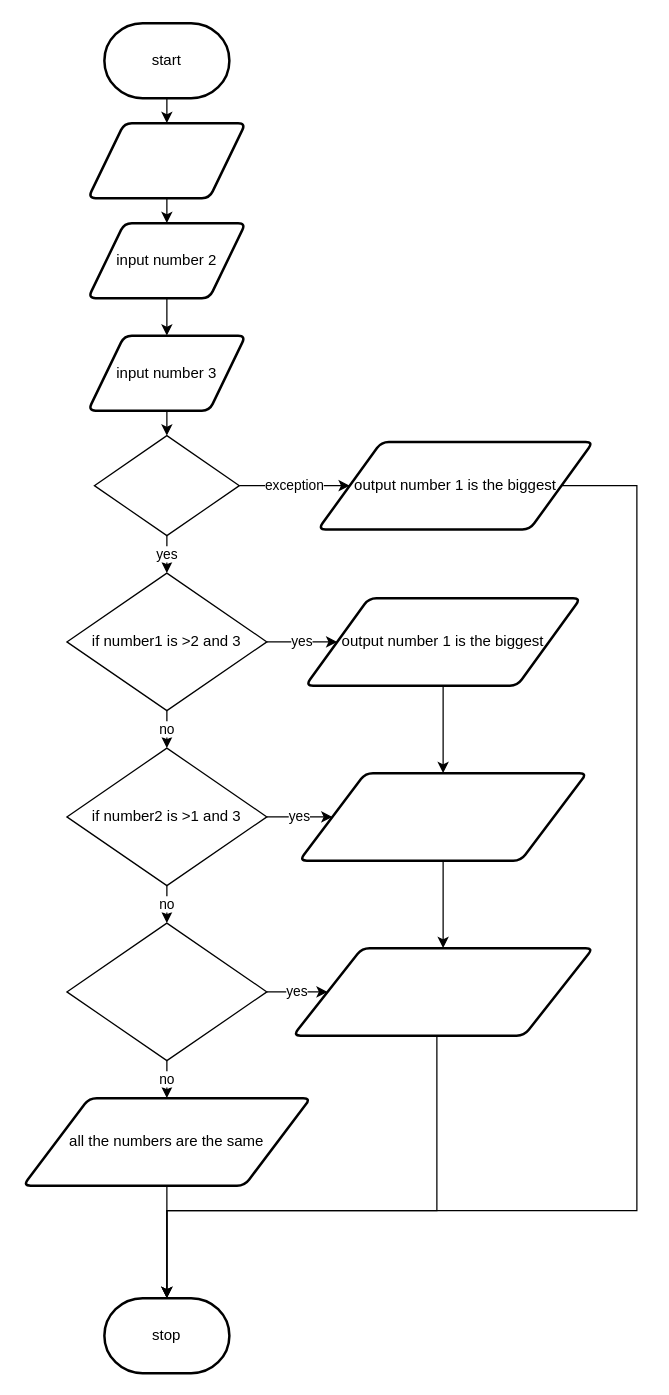
The diagram is 669 pixels wide and 1395 high, and some of its shapes have lost their labels. Each missing label, with the centre of its shape:
"if number3 is >1 and 2" goes at pixel 166 991.
"input number 1" goes at pixel 166 160.
"output number 2 is the biggest" goes at pixel 443 816.
"output number 3 is the biggest" goes at pixel 442 991.
"try" goes at pixel 166 485.
